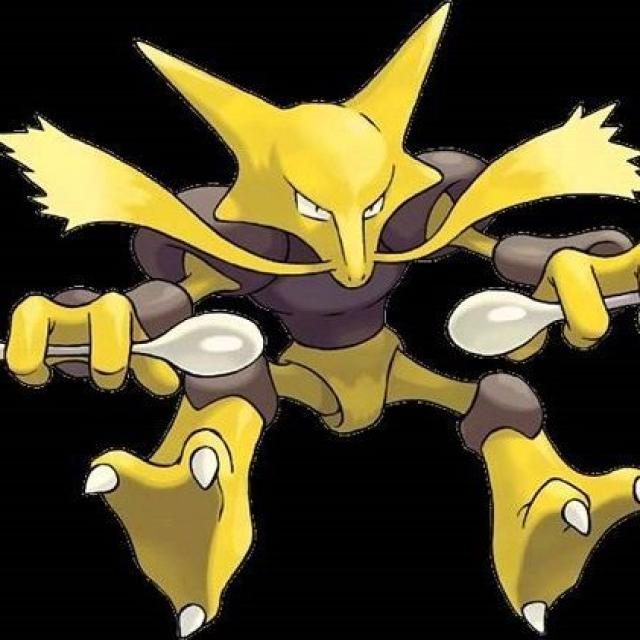Alakazam: (105, 23, 577, 620)
